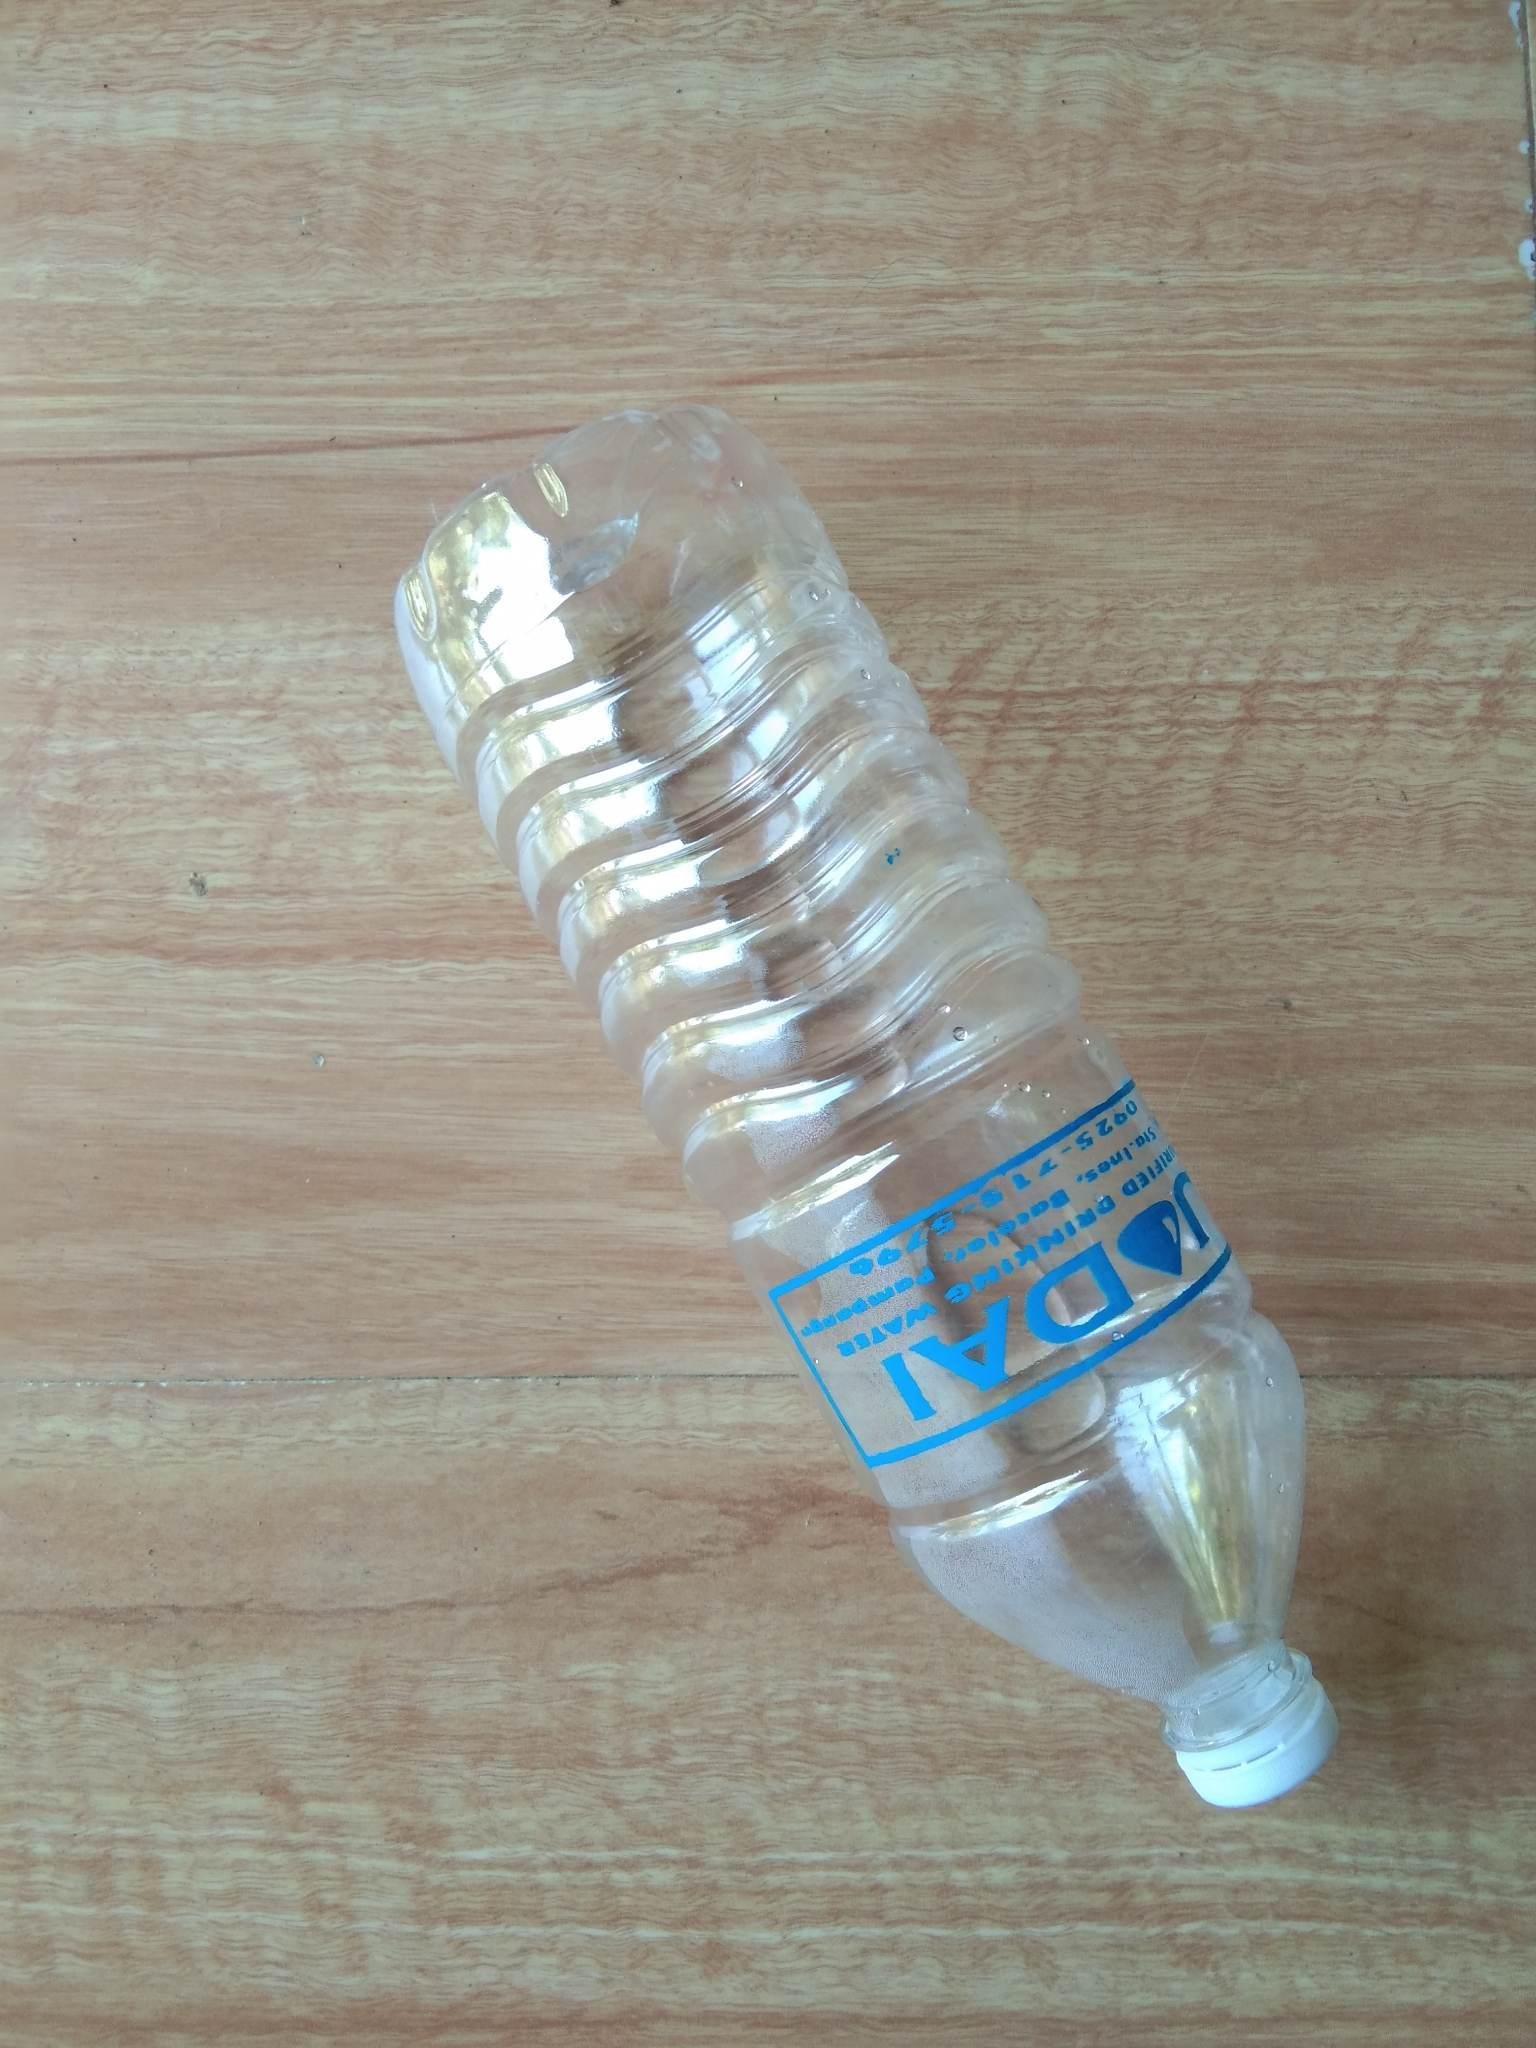plastic: (52, 381, 1486, 1830)
